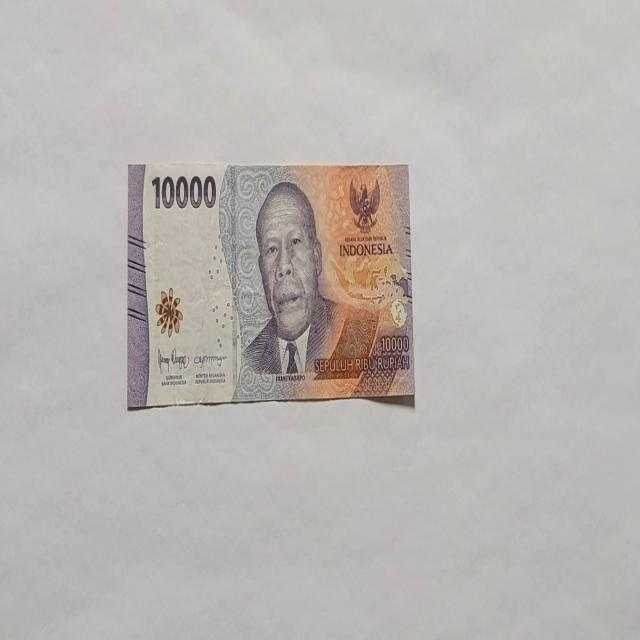sepuluh ribu rupiah: (126, 160, 414, 410), (231, 179, 347, 401)
